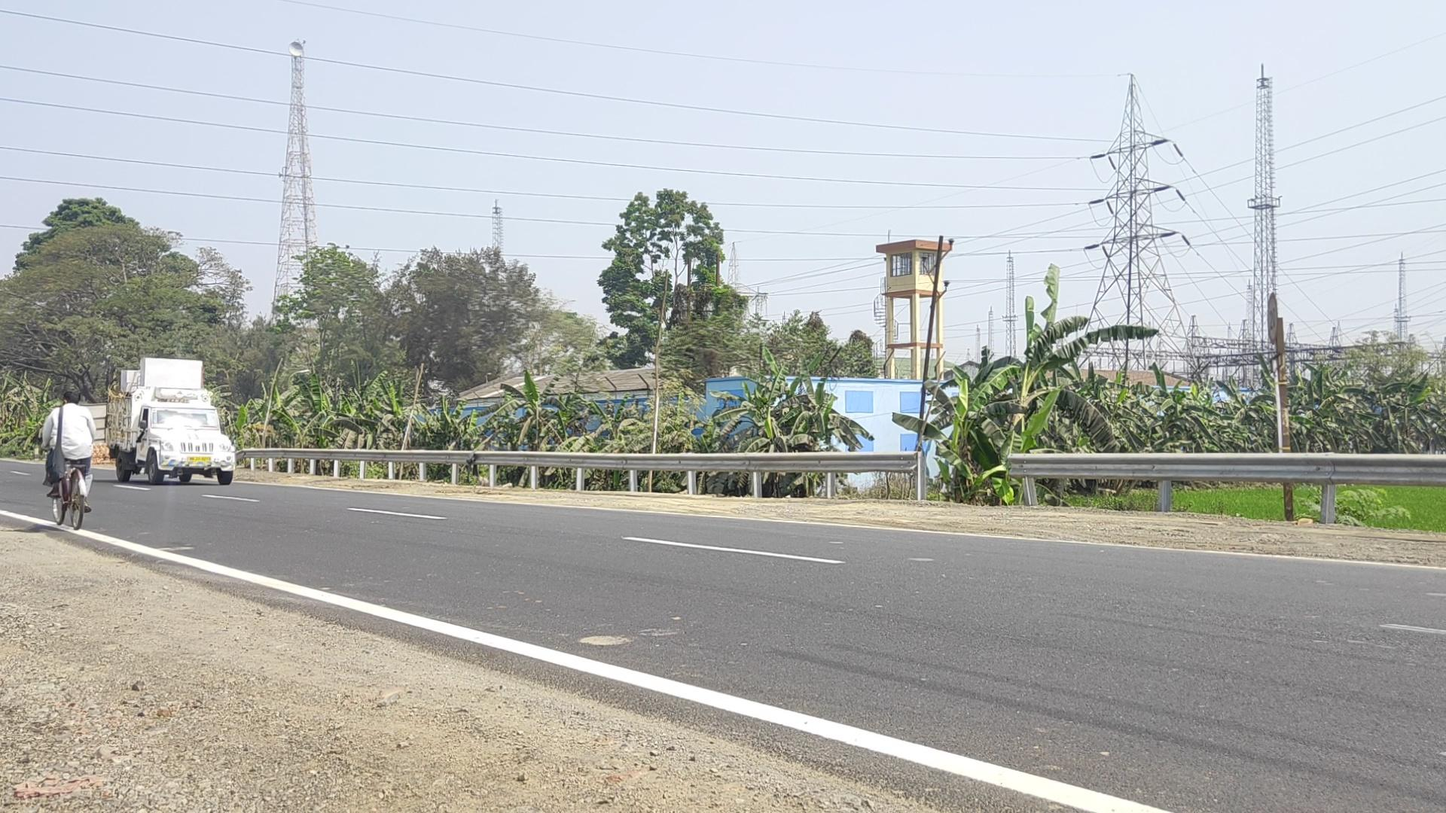bike: (42, 391, 97, 531)
van: (105, 358, 236, 486)
